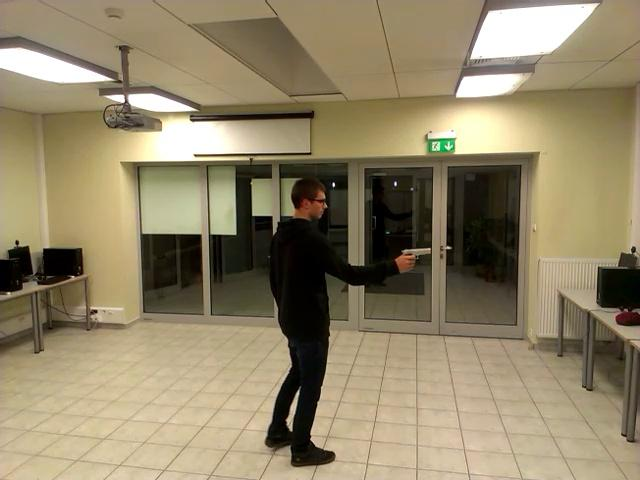gun: (389, 240, 433, 270)
